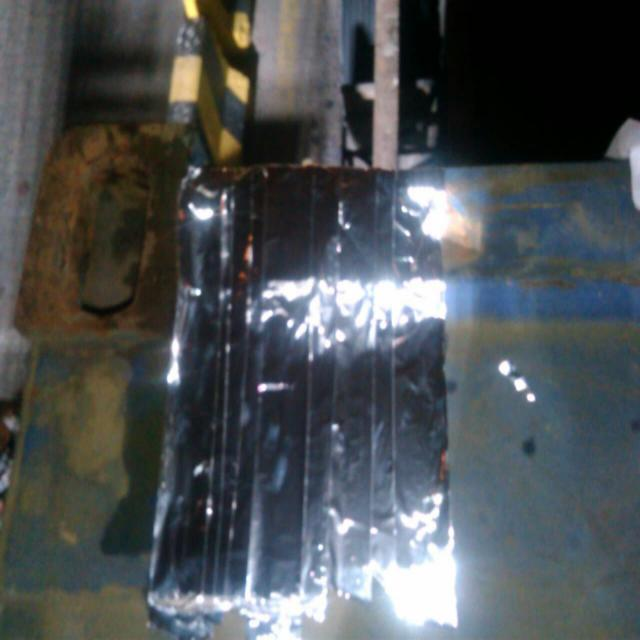rust: (17, 118, 179, 342)
